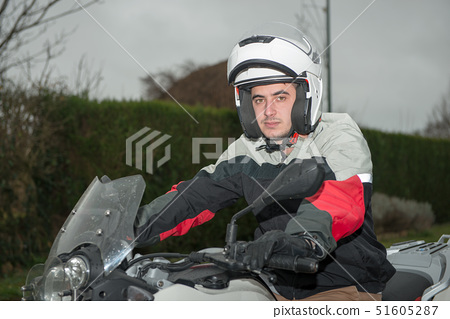helmet: (224, 36, 323, 134)
